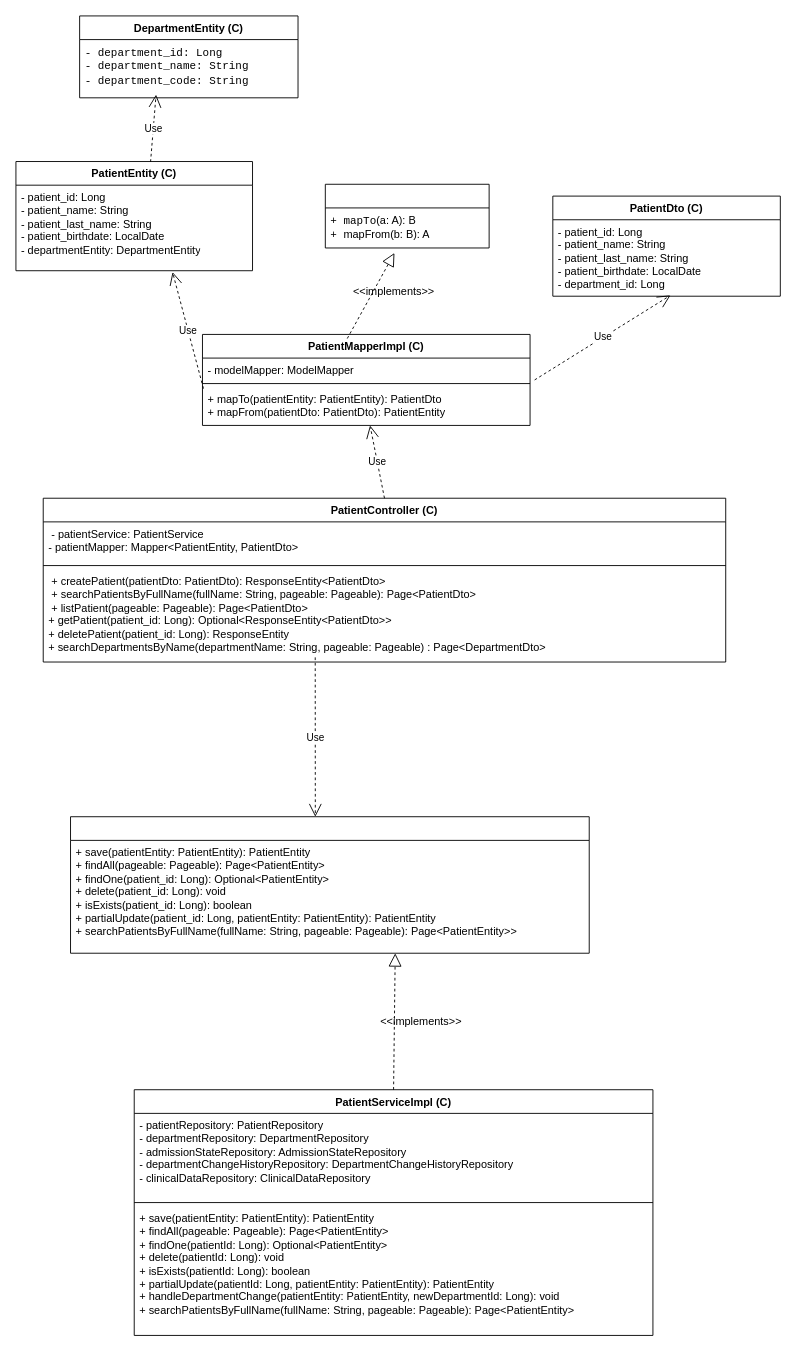
Some shapes in this 796 by 1354 pixel diagram are drawn without their labels. Here are the shapes that lost their labels. From the top down, the box of each, then its label:
(324, 183, 489, 248): Mapper <A, B> (I)
(70, 816, 589, 953): PatientService (I)
